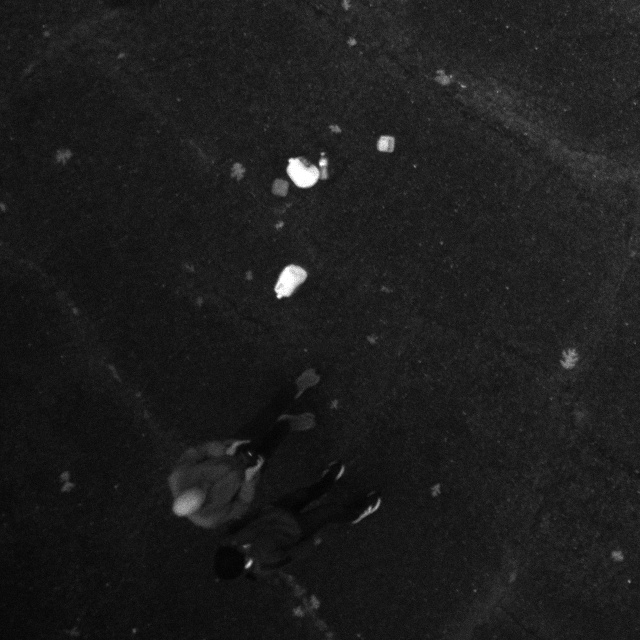can: (270, 258, 311, 304), (284, 151, 321, 192)
container: (374, 131, 396, 158), (269, 174, 290, 199)
